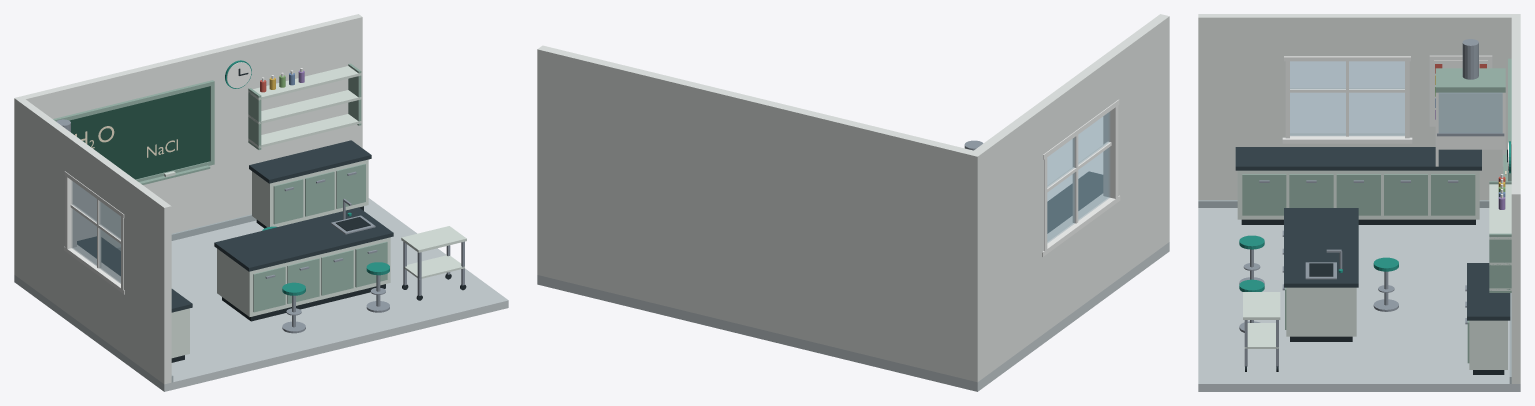
The model's file is chemistry.glb.
3 views of the same model, side by side, from view 1: azimuth 30°, elevation 25°; view 2: azimuth 150°, elevation 25°; view 3: azimuth 270°, elevation 25° (orthographic). The views are drawn at different scales.
Parts seen in each view (by area): view 1: ENV_wall_back, ENV_floor, ENV_wall_left_low, board_surface, ENV_wall_left_high, PRP_island_top, PRP_island, ENV_wall_left_front, ENV_wall_left_rear, PRP_bench_back, PRP_island_body, window_glass (+18 smaller); view 2: ENV_wall_back, ENV_wall_left_low, ENV_wall_left_high, ENV_floor, ENV_wall_left_rear, ENV_wall_left_front, window_glass, PRP_bench_left_top, window_frame_front, window_frame_bottom; view 3: ENV_floor, ENV_wall_left_high, PRP_bench_left, window_glass, ENV_wall_left_front, PRP_bench_left_top, PRP_island_top, ENV_wall_left_low, ENV_wall_back, PRP_island_body, hood_back, PRP_bench_left_body (+28 smaller).
Boxes of the visible parts, left/top/right/bottom form: ENV_wall_back: left=14, top=14, right=362, bottom=276; ENV_floor: left=14, top=198, right=508, bottom=391; ENV_wall_left_low: left=18, top=215, right=171, bottom=384; board_surface: left=69, top=86, right=210, bottom=179; ENV_wall_left_high: left=18, top=99, right=171, bottom=245; PRP_island_top: left=214, top=207, right=393, bottom=271; PRP_island: left=253, top=241, right=387, bottom=312; ENV_wall_left_front: left=123, top=217, right=171, bottom=321; ENV_wall_left_rear: left=18, top=139, right=65, bottom=247; PRP_bench_back: left=273, top=164, right=365, bottom=224; PRP_island_body: left=217, top=237, right=390, bottom=316; window_glass: left=72, top=181, right=120, bottom=283; ENV_wall_back: left=537, top=45, right=982, bottom=382; ENV_wall_left_low: left=983, top=161, right=1169, bottom=377; ENV_wall_left_high: left=974, top=14, right=1169, bottom=200; ENV_floor: left=537, top=242, right=1169, bottom=391; ENV_wall_left_rear: left=983, top=157, right=1043, bottom=297; ENV_wall_left_front: left=1118, top=65, right=1169, bottom=196; window_glass: left=1047, top=112, right=1109, bottom=242; PRP_bench_left_top: left=1047, top=171, right=1102, bottom=233; window_frame_front: left=1103, top=105, right=1118, bottom=200; window_frame_bottom: left=1042, top=194, right=1120, bottom=256; ENV_floor: left=1198, top=208, right=1520, bottom=391; ENV_wall_left_high: left=1198, top=14, right=1511, bottom=58; PRP_bench_left: left=1242, top=174, right=1475, bottom=215; window_glass: left=1290, top=61, right=1404, bottom=135; ENV_wall_left_front: left=1198, top=58, right=1285, bottom=139; PRP_bench_left_top: left=1235, top=147, right=1481, bottom=170; PRP_island_top: left=1284, top=208, right=1358, bottom=287; ENV_wall_left_low: left=1198, top=139, right=1507, bottom=200; ENV_wall_back: left=1511, top=14, right=1520, bottom=383; PRP_island_body: left=1286, top=287, right=1356, bottom=336; hood_back: left=1438, top=93, right=1502, bottom=149; PRP_bench_left_body: left=1237, top=170, right=1479, bottom=219.
Bounding box in the file's own units: 5.73 × 2.92 × 4.32.
